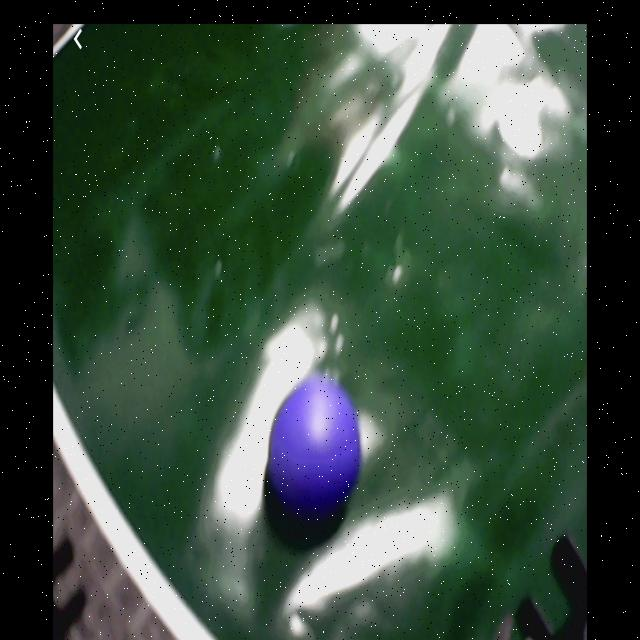ball: (268, 375, 363, 511)
